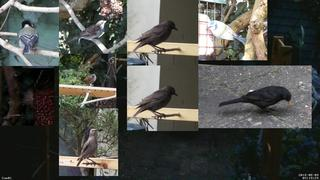blackbird: (218, 86, 292, 114)
blue tit: (206, 20, 247, 44)
dunnock: (78, 74, 96, 86)
great tit: (18, 20, 39, 55)
mouse: (22, 86, 34, 109)
sparrow: (68, 20, 107, 43)
starling: (132, 20, 178, 54), (132, 86, 178, 120), (76, 128, 98, 167)
